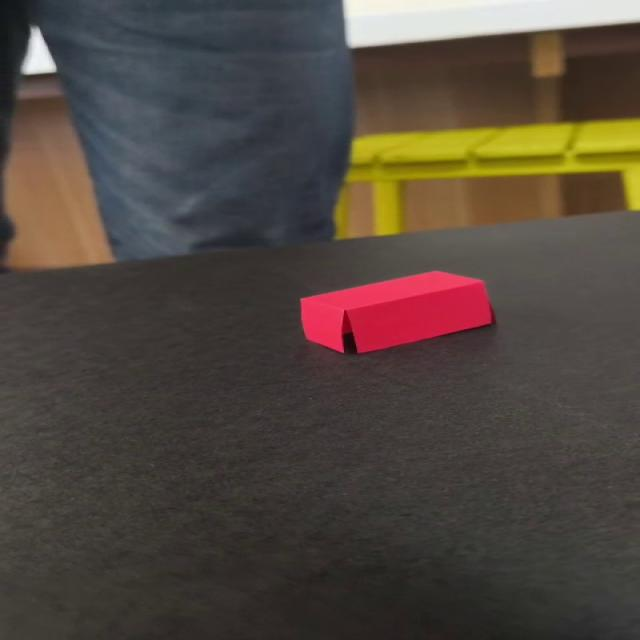red block: (297, 269, 495, 354)
